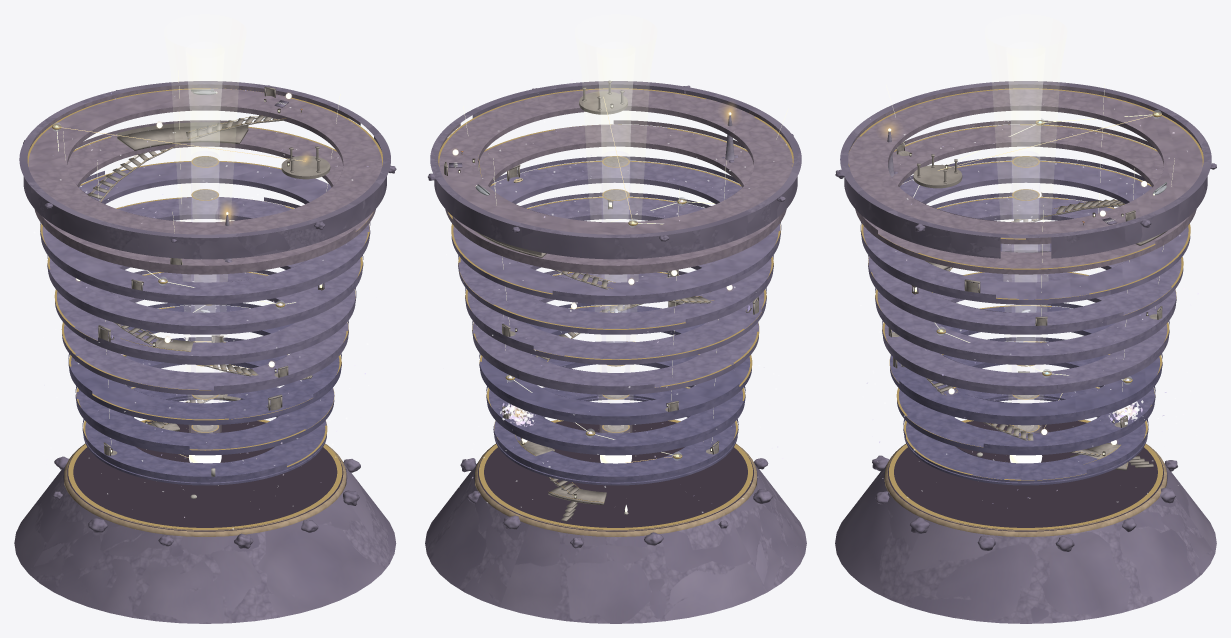
Rendered from deep-past.glb.
3 views of the same model, side by side, from view 1: azimuth 30°, elevation 25°; view 2: azimuth 150°, elevation 25°; view 3: azimuth 270°, elevation 25° (orthographic).
Visible parts, largest first — view 1: strata_discs_mid, basin_rock, strata_discs_rim, strata_discs_deep, basin_floor, rim_band, shaft_core, strata_walls_mid, gold_trims, rim_lip, strata_walls_rim, basin_bowl (+5 smaller); view 2: strata_discs_mid, basin_rock, strata_discs_rim, strata_discs_deep, basin_floor, rim_band, shaft_core, gold_trims, strata_walls_mid, rim_lip, strata_walls_deep, basin_bowl (+4 smaller); view 3: strata_discs_mid, basin_rock, strata_discs_rim, strata_discs_deep, basin_floor, rim_band, strata_walls_mid, shaft_core, gold_trims, rim_lip, strata_walls_deep, strata_walls_rim (+3 smaller).
Part boxes in pixels (left/top/right/bottom): strata_discs_mid: left=41, top=161, right=369, bottom=394; basin_rock: left=14, top=456, right=396, bottom=623; strata_discs_rim: left=28, top=88, right=381, bottom=274; strata_discs_deep: left=69, top=305, right=341, bottom=485; basin_floor: left=67, top=421, right=343, bottom=531; rim_band: left=23, top=88, right=386, bottom=259; shaft_core: left=186, top=42, right=224, bottom=432; strata_walls_mid: left=40, top=171, right=370, bottom=390; gold_trims: left=27, top=88, right=382, bottom=529; rim_lip: left=19, top=81, right=390, bottom=237; strata_walls_rim: left=30, top=84, right=360, bottom=269; basin_bowl: left=64, top=443, right=346, bottom=536; strata_discs_mid: left=451, top=161, right=780, bottom=394; basin_rock: left=425, top=458, right=806, bottom=623; strata_discs_rim: left=439, top=89, right=792, bottom=274; strata_discs_deep: left=480, top=305, right=751, bottom=485; basin_floor: left=478, top=421, right=753, bottom=531; rim_band: left=434, top=84, right=797, bottom=259; shaft_core: left=597, top=42, right=634, bottom=432; gold_trims: left=438, top=88, right=793, bottom=529; strata_walls_mid: left=458, top=156, right=781, bottom=390; rim_lip: left=430, top=81, right=801, bottom=237; strata_walls_deep: left=479, top=303, right=745, bottom=480; basin_bowl: left=475, top=443, right=756, bottom=536; strata_discs_mid: left=861, top=161, right=1190, bottom=394; basin_rock: left=835, top=455, right=1216, bottom=623; strata_discs_rim: left=848, top=89, right=1202, bottom=274; strata_discs_deep: left=890, top=306, right=1161, bottom=485; basin_floor: left=888, top=421, right=1163, bottom=531; rim_band: left=844, top=88, right=1207, bottom=258; strata_walls_mid: left=860, top=156, right=1176, bottom=390; shaft_core: left=1007, top=42, right=1044, bottom=432; gold_trims: left=848, top=88, right=1203, bottom=529; rim_lip: left=840, top=81, right=1211, bottom=237; strata_walls_deep: left=899, top=303, right=1162, bottom=473; strata_walls_rim: left=855, top=84, right=1201, bottom=244.
Size of the model in its own units: 188 by 278 by 188.
Materials: 41 (12 with a texture image).
